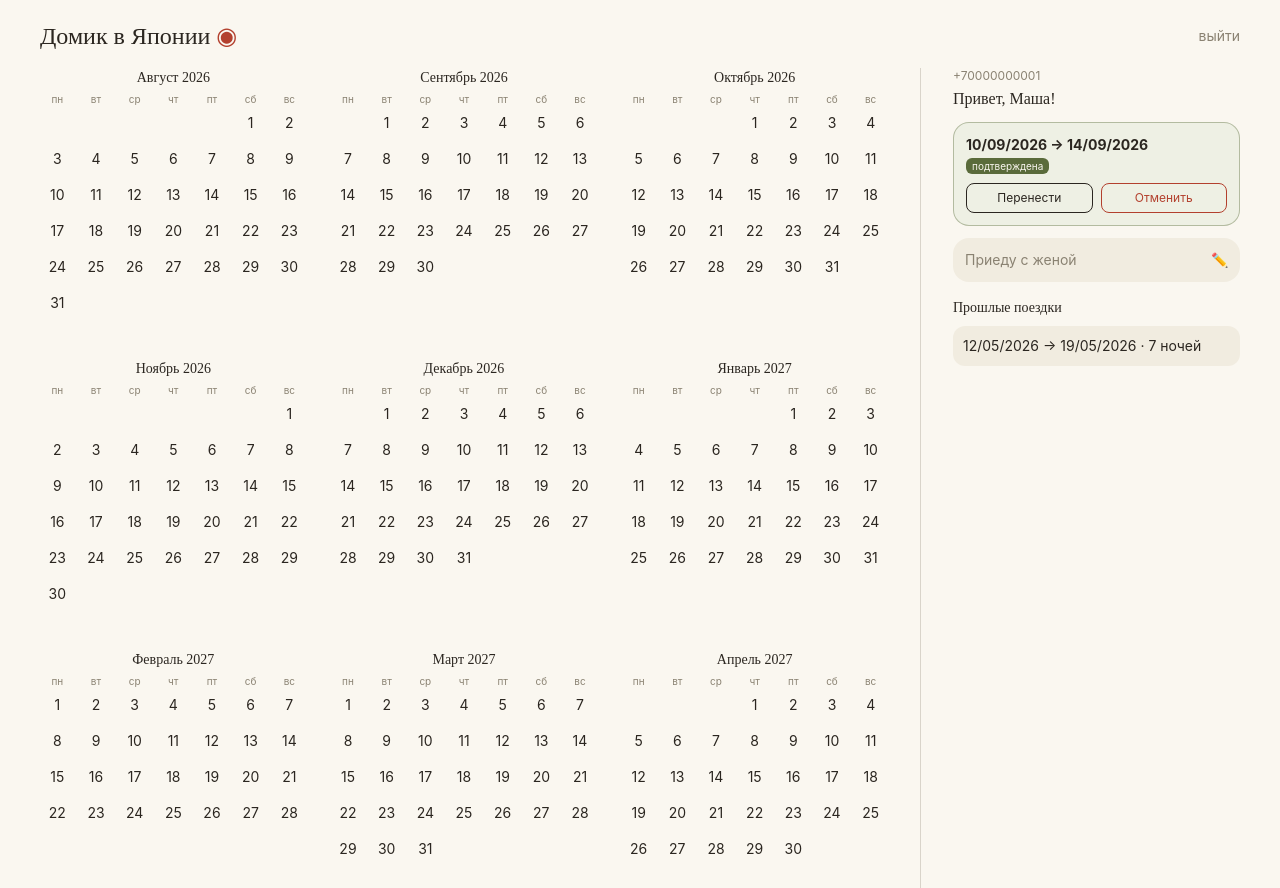
Test: Перенести уводит на календарь в режиме переноса
The image size is (1280, 888).
Click the button "Перенести".
click(1029, 198)  # box [966,183,1092,213]
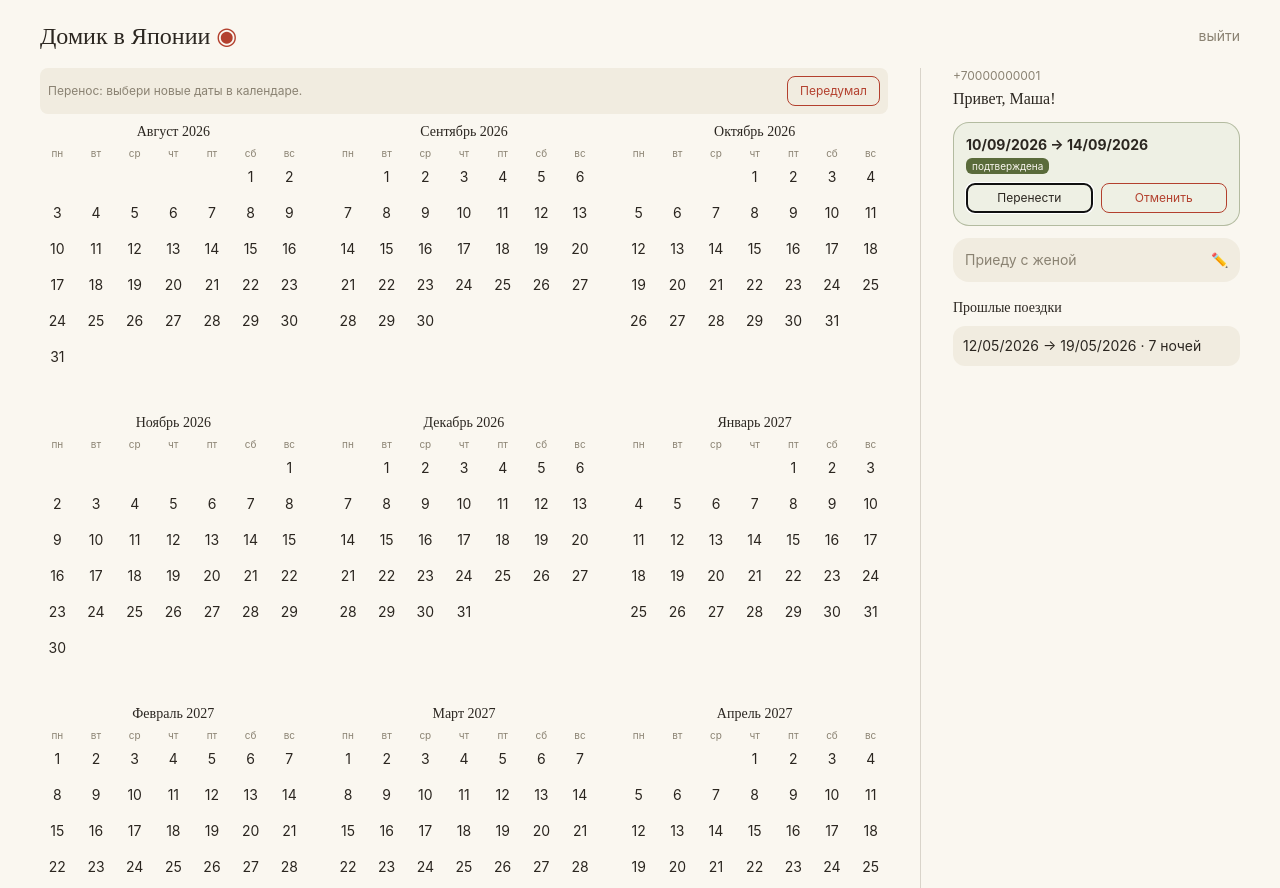
Result: the text "Перенос: выбери новые даты в календаре." is shown at [48,83,302,99]
